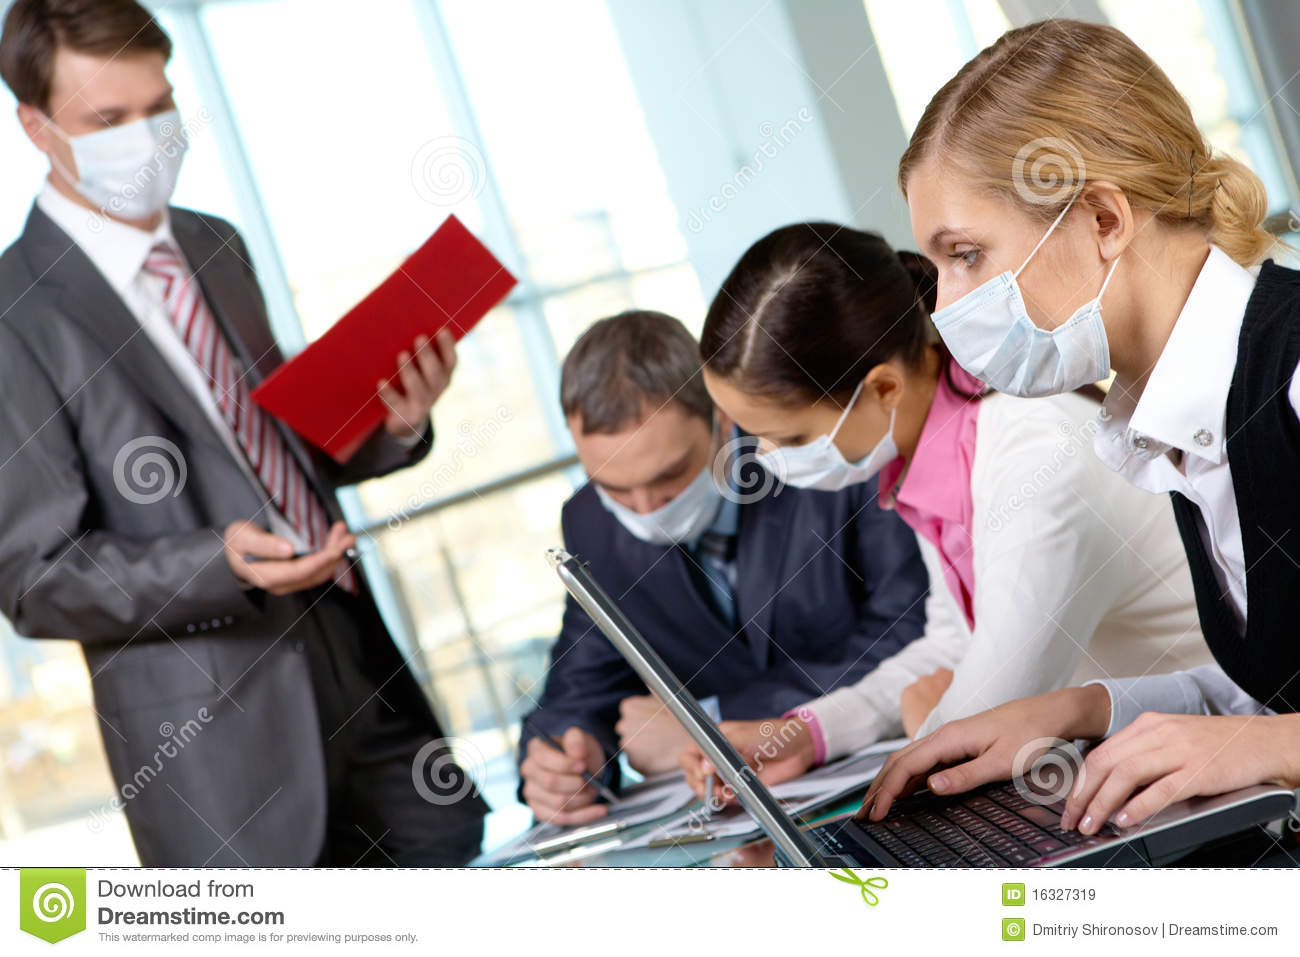mask: (932, 275, 1112, 399), (69, 105, 186, 216), (761, 439, 903, 490)
